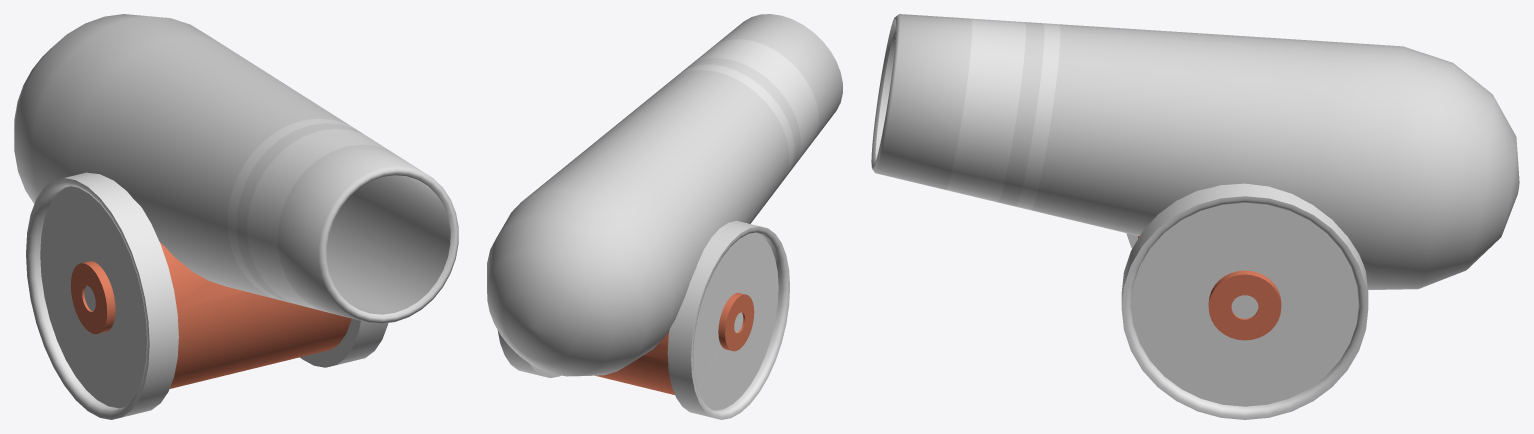
The model's file is canon.fbx.
3 views of the same model, side by side, from view 1: azimuth 30°, elevation 25°; view 2: azimuth 150°, elevation 25°; view 3: azimuth 270°, elevation 25° (orthographic). The views are drawn at different scales.
Parts seen in each view (by area): view 1: Cylinder, Cylinder.001, Cylinder.002; view 2: Cylinder, Cylinder.001, Cylinder.002; view 3: Cylinder, Cylinder.001.
Part boxes in pixels (<box>): Cylinder: <box>14,14,458,323</box>; Cylinder.001: <box>26,172,388,419</box>; Cylinder.002: <box>160,242,351,388</box>; Cylinder: <box>487,14,842,376</box>; Cylinder.001: <box>497,220,789,419</box>; Cylinder.002: <box>595,331,674,394</box>; Cylinder: <box>871,14,1519,290</box>; Cylinder.001: <box>1121,183,1368,419</box>.
Size of the model in its own units: 227 by 303 by 525.
